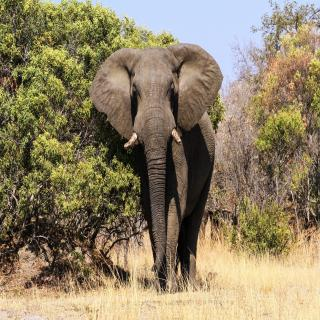Elephant: (87, 36, 225, 296)
